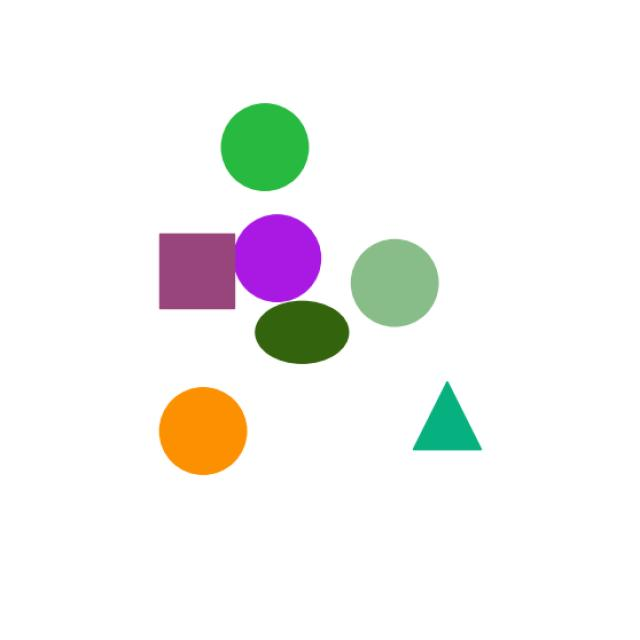Circle: (145, 378, 295, 498), (338, 226, 466, 339), (212, 93, 320, 193), (226, 203, 328, 306)
Oval: (245, 301, 364, 374)
Triangle: (387, 372, 505, 484)
square: (148, 220, 251, 315)
